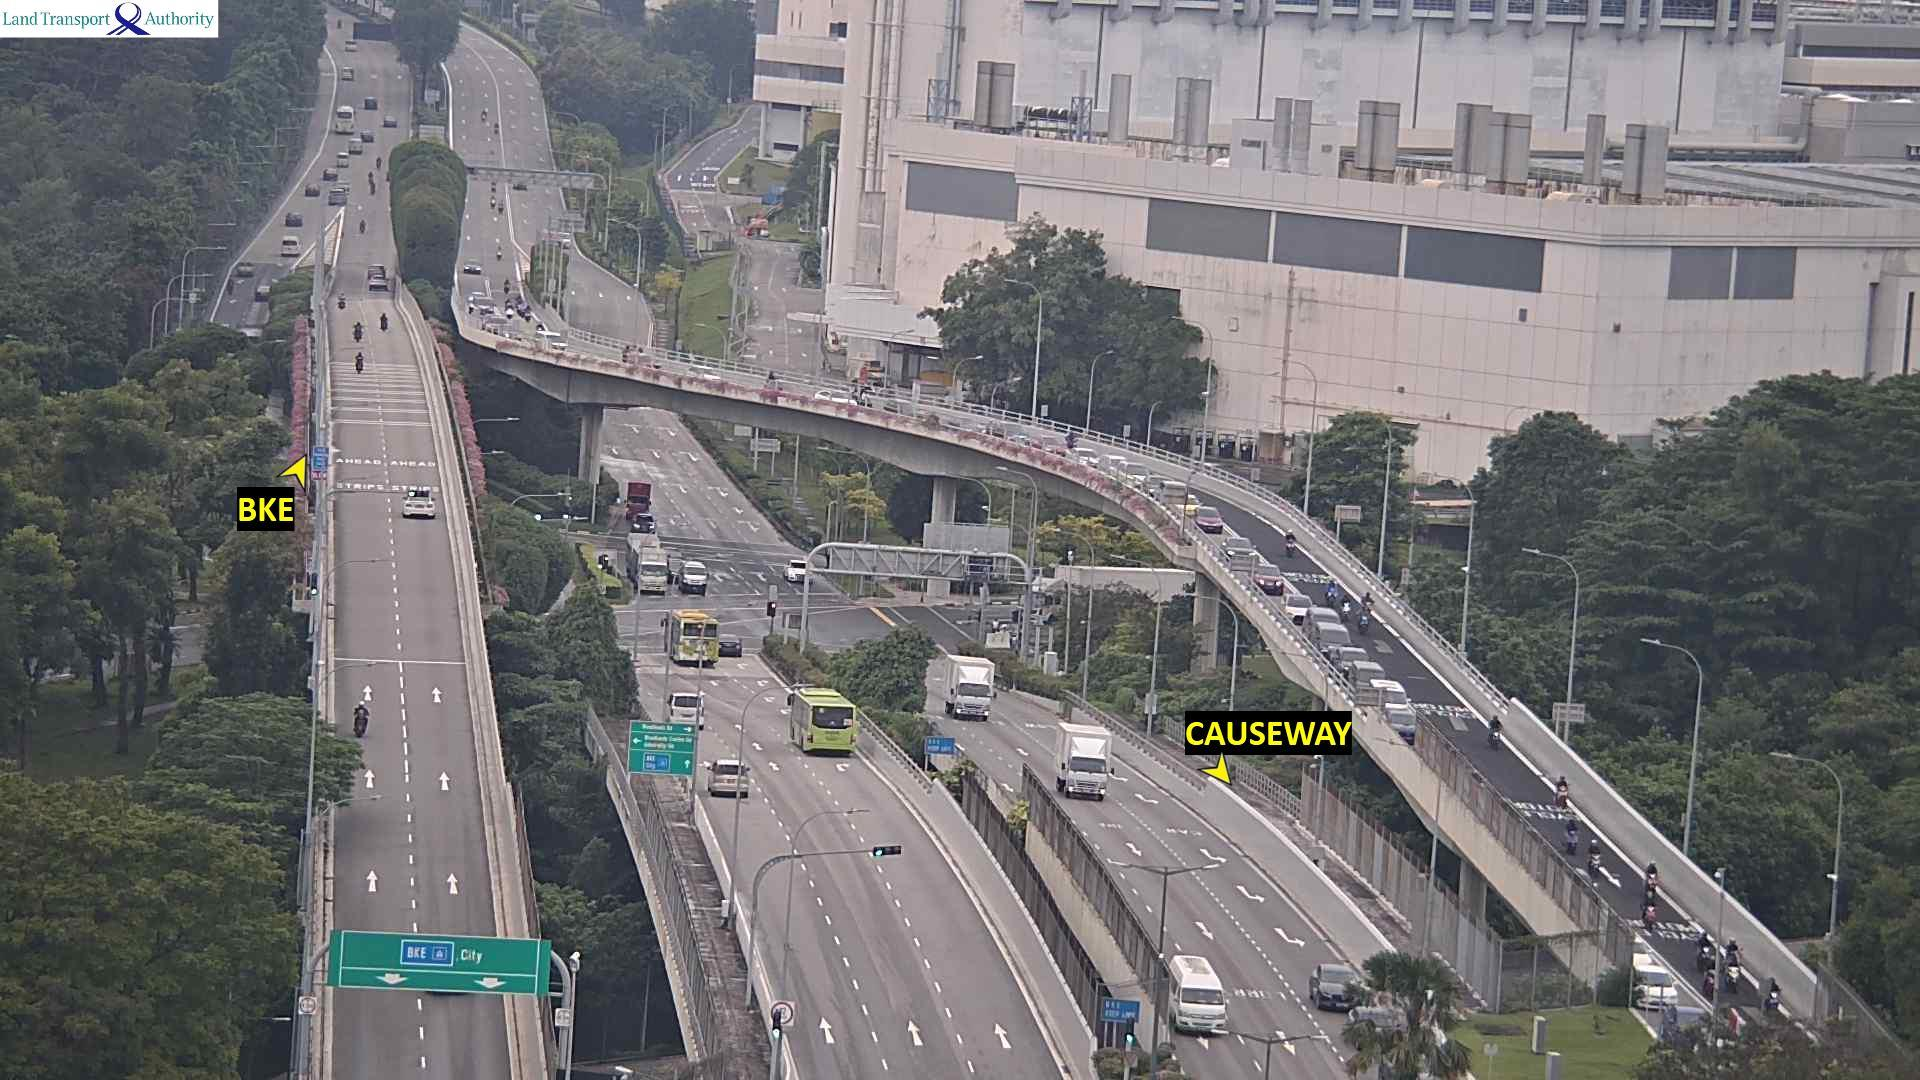vehicle-causeway-johor: (1053, 724, 1112, 801), (1169, 956, 1224, 1032), (942, 654, 999, 719), (1308, 966, 1369, 1014), (1328, 650, 1382, 689), (1216, 539, 1262, 570), (1307, 621, 1348, 655), (1662, 1009, 1704, 1042), (1635, 969, 1672, 1005), (1385, 707, 1422, 743), (1166, 493, 1209, 521), (1370, 681, 1404, 711), (1185, 511, 1219, 538), (885, 400, 928, 421), (1146, 479, 1181, 504), (816, 388, 858, 408), (1280, 599, 1313, 623), (1255, 576, 1287, 600), (1725, 937, 1741, 985), (1304, 609, 1340, 630), (1064, 447, 1099, 468), (625, 347, 658, 369), (1159, 482, 1189, 506), (534, 331, 570, 351), (689, 363, 721, 382), (1041, 436, 1068, 458), (1763, 978, 1780, 1012), (1122, 463, 1146, 486), (1566, 823, 1581, 856), (1486, 715, 1501, 746), (1587, 837, 1601, 870), (1640, 899, 1655, 928), (1285, 529, 1299, 560), (485, 316, 509, 334), (1644, 859, 1657, 892), (1699, 932, 1712, 965), (1555, 775, 1566, 806), (766, 371, 782, 389), (517, 297, 530, 317), (460, 265, 476, 281), (1328, 580, 1336, 604), (1342, 594, 1348, 619), (1363, 594, 1373, 608), (504, 280, 511, 293), (497, 245, 503, 260), (1361, 607, 1365, 629), (499, 201, 503, 211)
vehicle-causeway-singapore: (791, 691, 860, 754), (661, 615, 724, 667), (708, 762, 748, 795), (708, 776, 753, 798), (402, 490, 435, 518), (354, 701, 372, 740), (663, 695, 697, 713), (718, 640, 741, 659), (362, 353, 376, 372), (362, 329, 374, 344)
